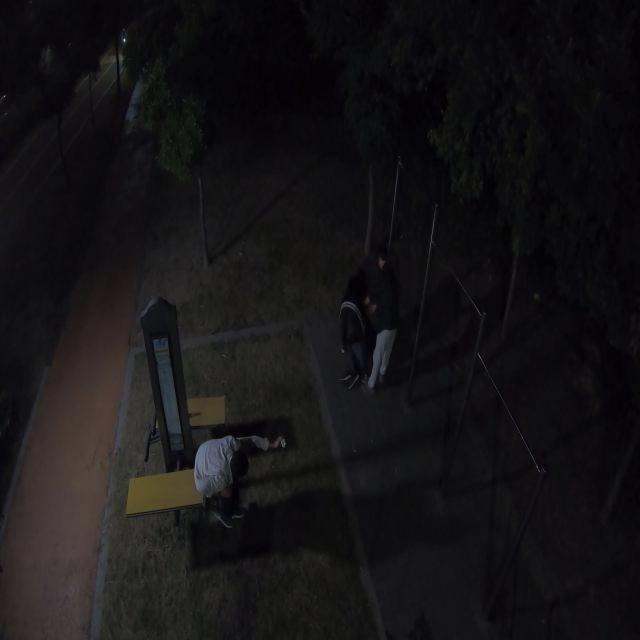fight: (330, 250, 405, 391)
non-fight: (194, 422, 286, 524)
